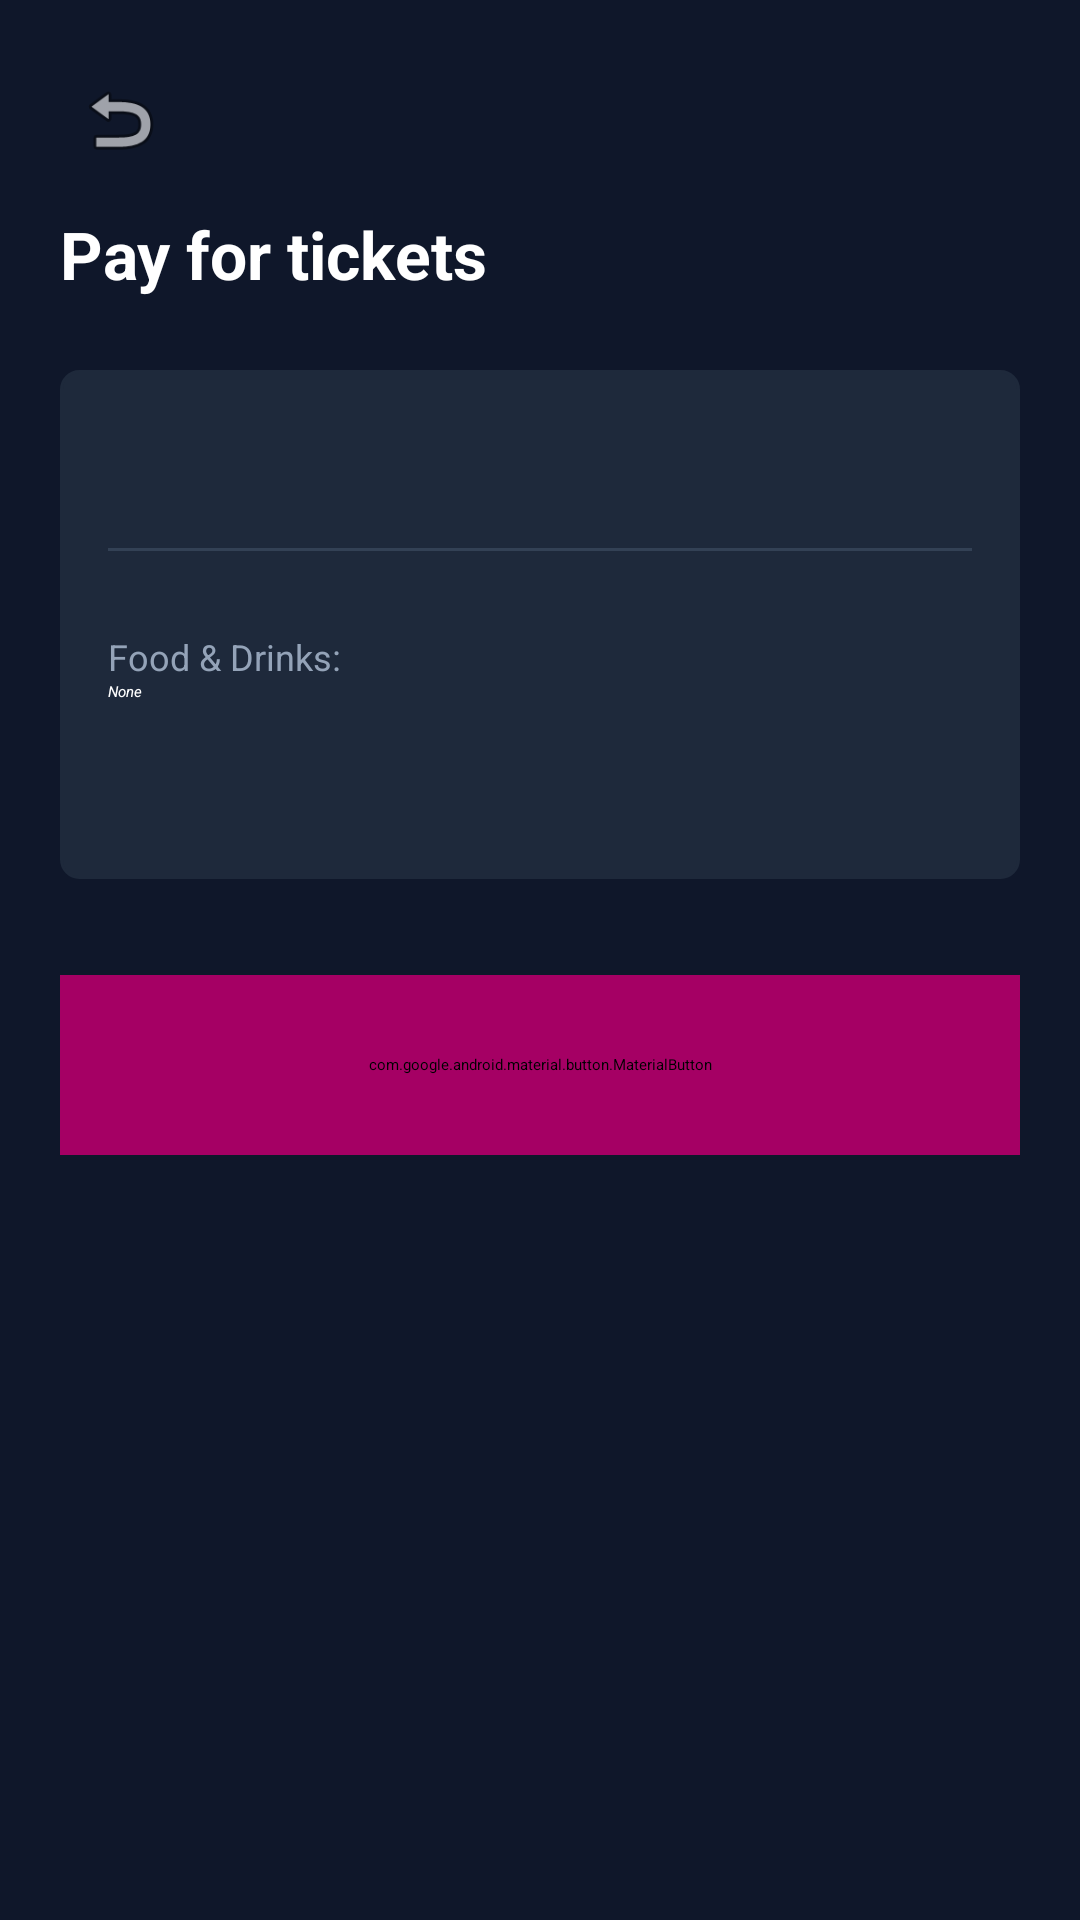

Screen size 1080px×1920px. Icon name, then its center in pixels as (x,y):
revert: (121,120)
